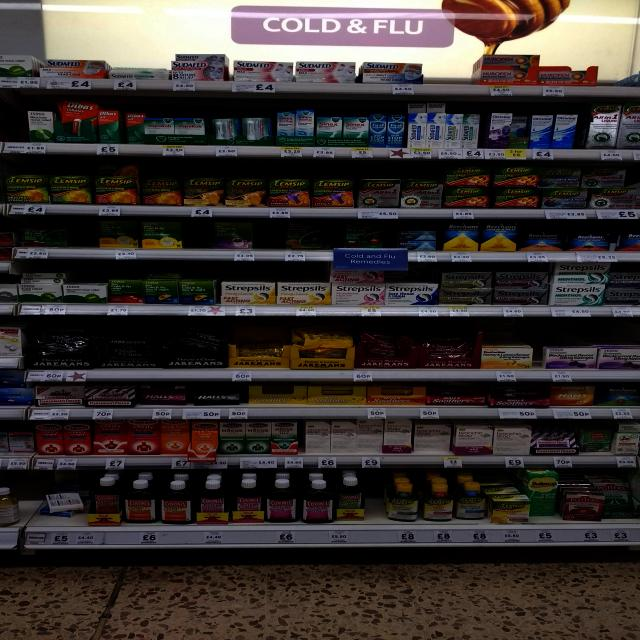empty_space: (257, 222, 281, 246), (7, 108, 25, 140), (72, 214, 92, 242), (186, 226, 206, 244)
